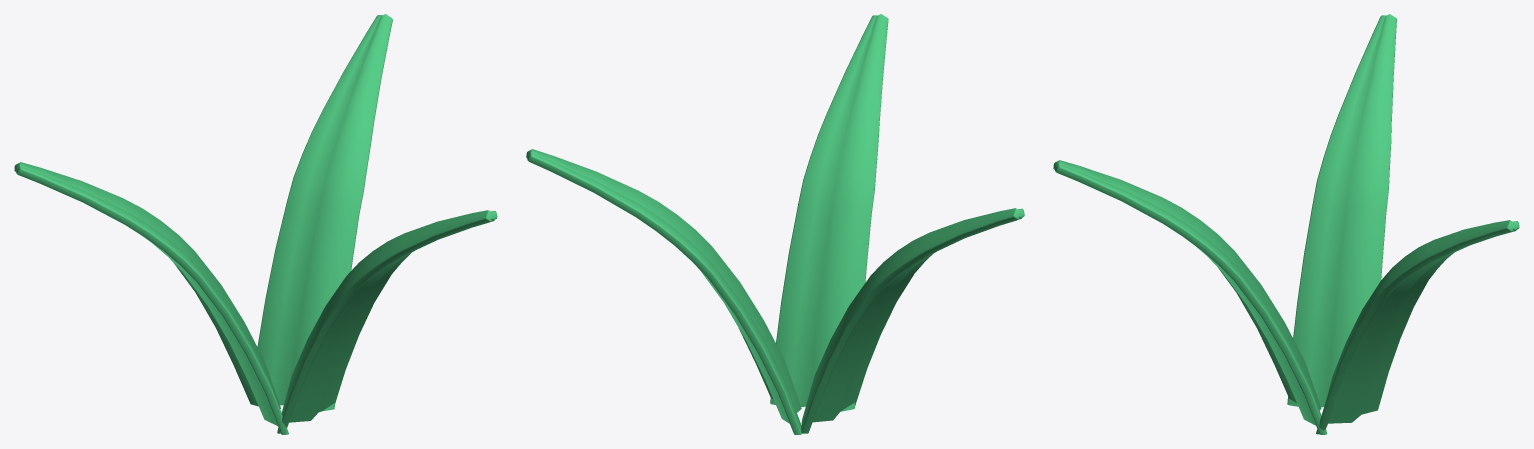
Rendered from Town_10_Grass_1.glb.
The picture shows the model from 3 angles, left to right: view 1: azimuth 30°, elevation 25°; view 2: azimuth 150°, elevation 25°; view 3: azimuth 270°, elevation 25°; orthographic projection.
Visible parts, largest first — view 1: Town_10_Grass_1; view 2: Town_10_Grass_1; view 3: Town_10_Grass_1.
Part boxes in pixels (left/top/right/bottom): Town_10_Grass_1: left=14, top=14, right=497, bottom=434; Town_10_Grass_1: left=526, top=14, right=1024, bottom=434; Town_10_Grass_1: left=1053, top=14, right=1519, bottom=434.
Bounding box in the file's own units: 0.6 × 0.3771 × 0.5575.
Materials: 1 (1 with a texture image).
